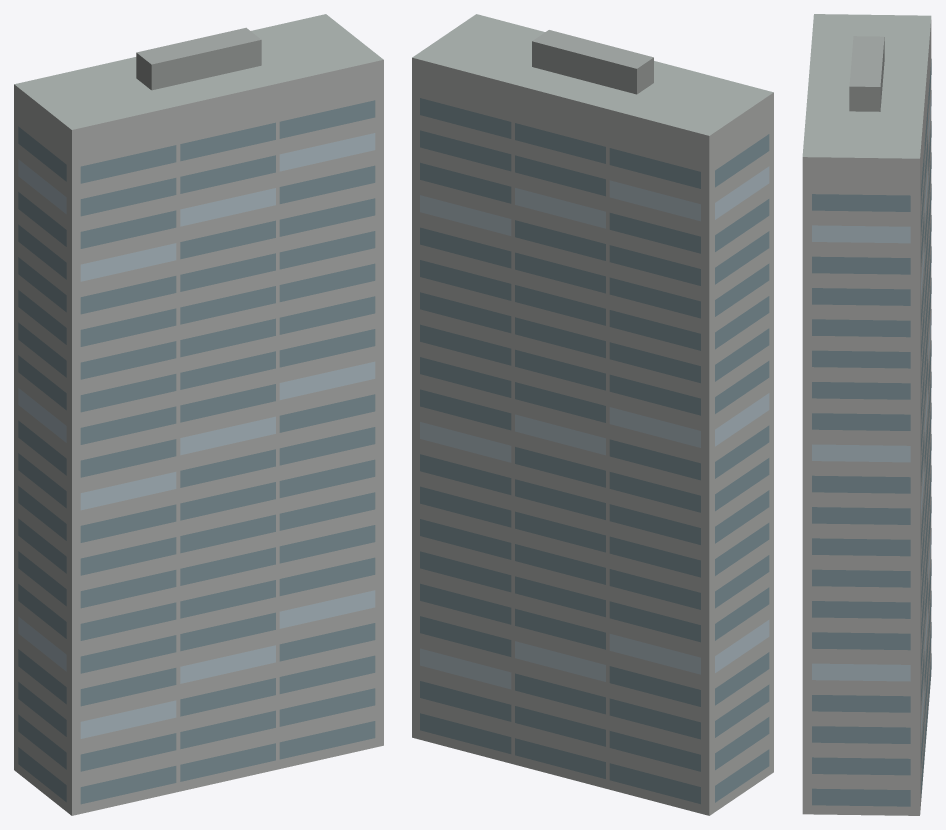
The model's file is fallback-jamsil-ricenz-233.glb.
3 renders of one model, left to right at view 1: azimuth 30°, elevation 25°; view 2: azimuth 150°, elevation 25°; view 3: azimuth 270°, elevation 25°, orthographic. The views are drawn at different scales.
Visible parts, largest first — view 1: fallback-jamsil-ricenz-233; view 2: fallback-jamsil-ricenz-233; view 3: fallback-jamsil-ricenz-233.
Boxes of the visible parts, <box> form: fallback-jamsil-ricenz-233: <box>14,14,383,815</box>; fallback-jamsil-ricenz-233: <box>412,14,773,815</box>; fallback-jamsil-ricenz-233: <box>802,14,931,815</box>.
Bounding box in the file's own units: 30.07 × 66 × 11.34.
